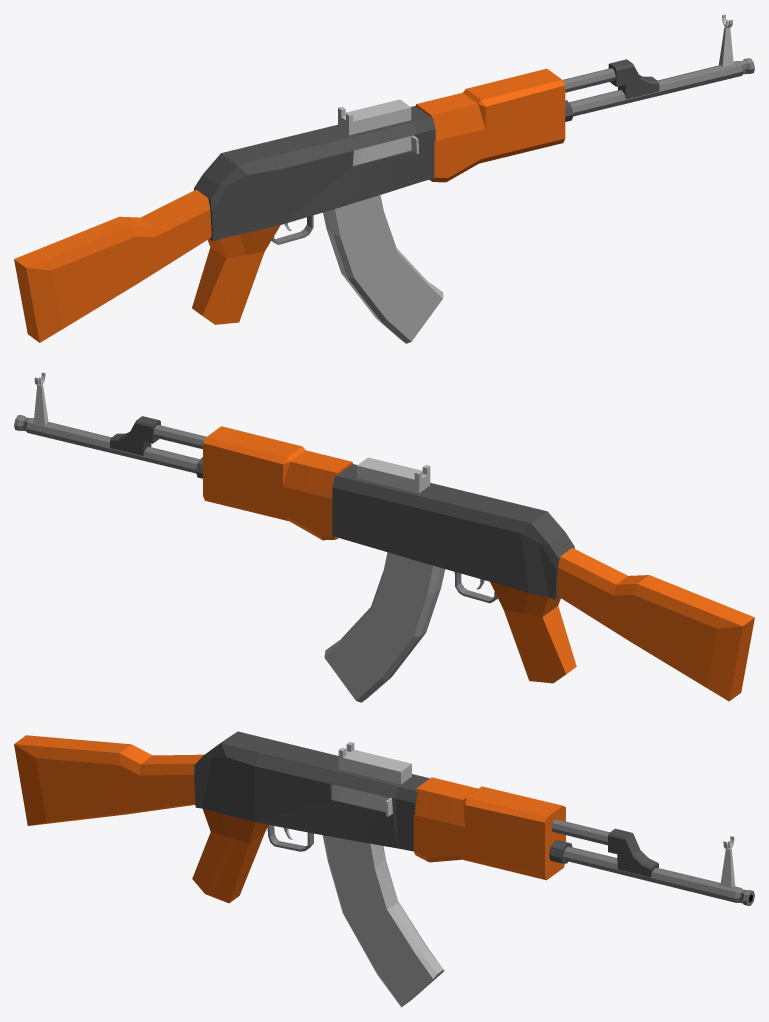
The picture shows the model from 3 angles, top to bottom: view 1: azimuth 30°, elevation 25°; view 2: azimuth 150°, elevation 25°; view 3: azimuth 330°, elevation 25°; orthographic projection.
Visible parts, largest first — view 1: Cube, Cube.007, Cube.006, Cube.004, Cube.005, Cube.003; view 2: Cube, Cube.007, Cube.006, Cube.004, Cube.005; view 3: Cube, Cube.007, Cube.006, Cube.004, Cube.005, Cube.003, Cube.001.
Boxes of the visible parts, <box> form: Cube: <box>14,68,565,342</box>; Cube.007: <box>323,195,443,343</box>; Cube.006: <box>562,58,754,121</box>; Cube.004: <box>338,14,733,135</box>; Cube.005: <box>608,59,659,99</box>; Cube.003: <box>353,135,419,165</box>; Cube: <box>203,426,754,701</box>; Cube.007: <box>324,552,445,702</box>; Cube.006: <box>14,415,206,478</box>; Cube.004: <box>33,372,430,493</box>; Cube.005: <box>110,416,160,455</box>; Cube: <box>14,731,565,903</box>; Cube.007: <box>322,835,444,1007</box>; Cube.006: <box>549,819,754,905</box>; Cube.004: <box>338,742,735,887</box>; Cube.005: <box>608,828,658,877</box>; Cube.003: <box>332,784,392,816</box>; Cube.001: <box>267,824,313,851</box>.
Size of the model in its own units: 956 by 307 by 60.34.
